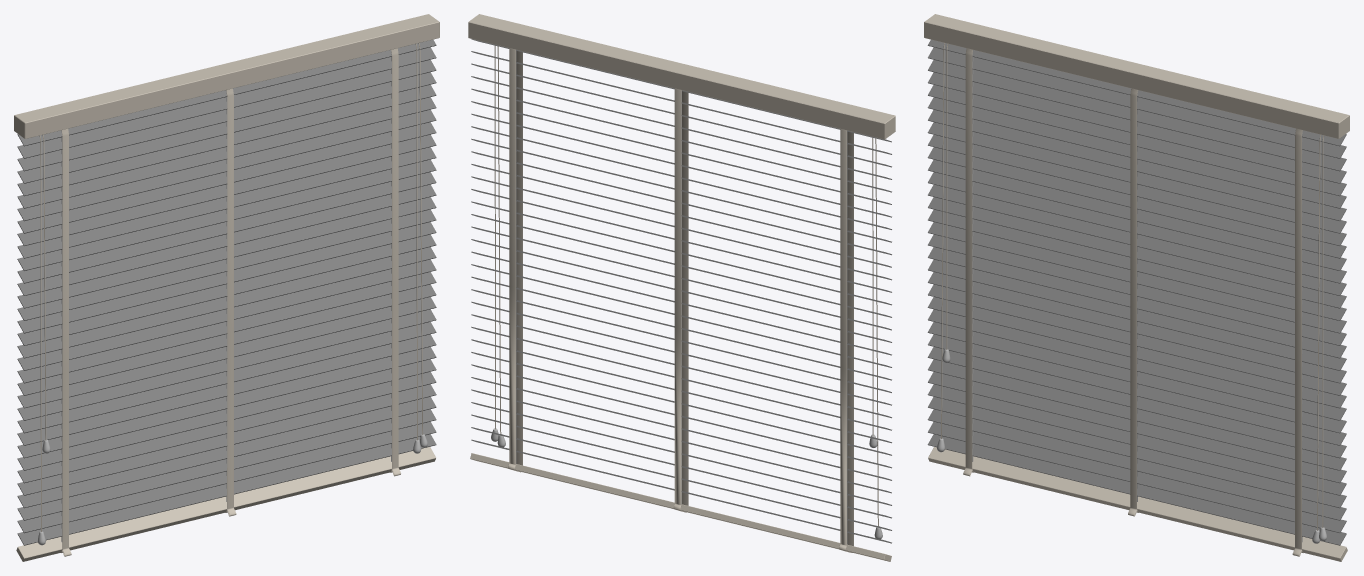
File: Blinds_4.fbx
3 views of the same model, side by side, from view 1: azimuth 30°, elevation 25°; view 2: azimuth 150°, elevation 25°; view 3: azimuth 330°, elevation 25° (orthographic).
Visible parts, largest first — view 1: Blinds_4; view 2: Blinds_4; view 3: Blinds_4.
Boxes of the visible parts, x1=… form: Blinds_4: x1=14, y1=14, x2=439, y2=561; Blinds_4: x1=468, y1=14, x2=895, y2=561; Blinds_4: x1=924, y1=14, x2=1349, y2=561.
Size of the model in its own units: 152 by 155 by 8.22.
